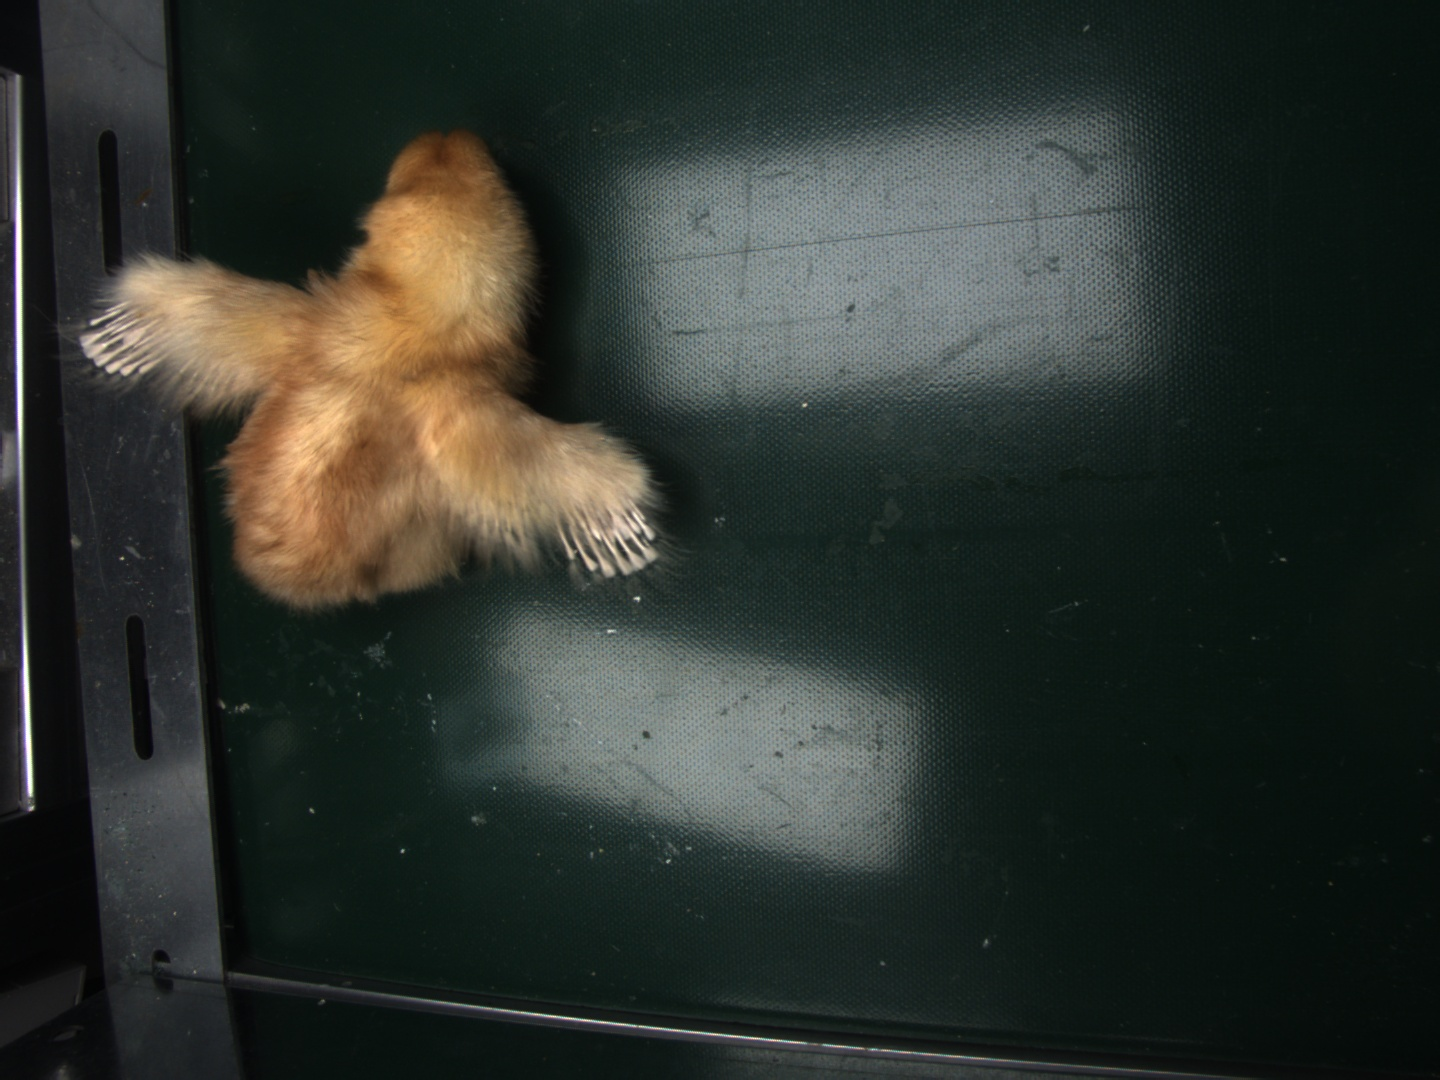female: (557, 498, 662, 577), (83, 299, 169, 373)
